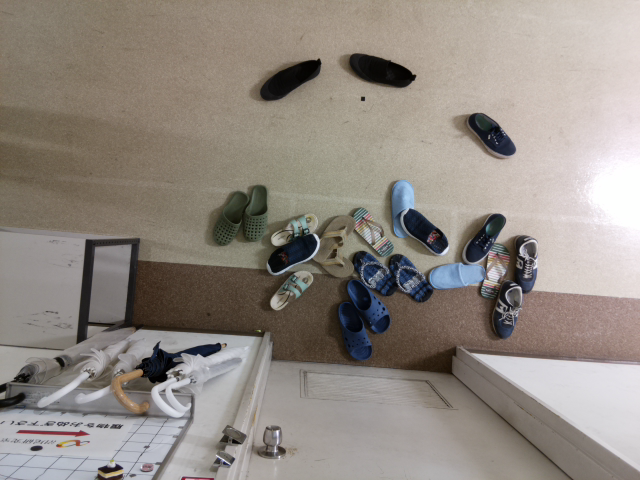Copy of Copy of Copy of Copy of Copy of Copy of Copy of sandal: (481, 242, 509, 299)
Copy of Copy of Copy of Copy of Copy of Copy of Copy of shoes: (265, 232, 320, 275)
Copy of Copy of Copy of Copy of Copy of Copy of sandal: (269, 271, 313, 310)
Copy of Copy of Copy of Copy of Copy of Copy of shoes: (490, 280, 523, 339)
Copy of Copy of Copy of Copy of Copy of sandal: (270, 213, 319, 246)
Copy of Copy of Copy of Copy of Copy of shoes: (514, 234, 538, 293)
Copy of Copy of Copy of Copy of Copy of slipper: (390, 179, 414, 238)
Copy of Copy of Copy of Copy of sandal: (319, 248, 355, 276)
Copy of Copy of Copy of Copy of shoes: (400, 207, 449, 256)
Copy of Copy of Copy of Copy of slipper: (429, 262, 486, 289)
Copy of Copy of Copy of sandal: (311, 215, 355, 262)
Copy of Copy of Copy of shoes: (461, 212, 506, 265)
Copy of Copy of Copy of slipper: (338, 301, 371, 359)
Copy of Copy of sandal: (351, 250, 396, 295)
Copy of Copy of shoes: (467, 112, 516, 158)
Copy of Copy of slipper: (346, 279, 392, 335)
Copy of sandal: (388, 253, 433, 302)
Copy of shoes: (349, 52, 416, 88)
Copy of slipper: (212, 191, 249, 245)
sandal: (350, 207, 394, 256)
shoes: (259, 57, 320, 102)
slipper: (242, 184, 268, 241)
